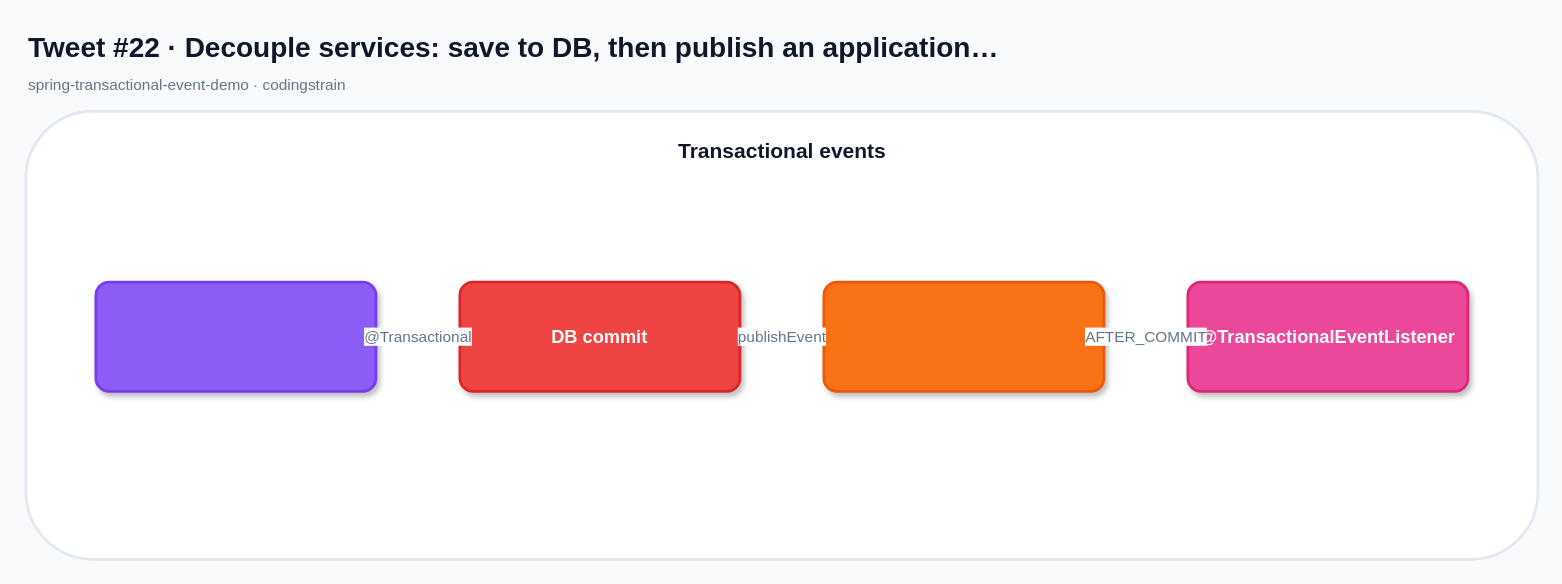
This 1562x584 diagram has some shape labels left out. The centre of each missing label's shape, as x and y in pixels:
"ApplicationEvent" belongs at (x=964, y=338).
"createOrder()" belongs at (x=236, y=338).
